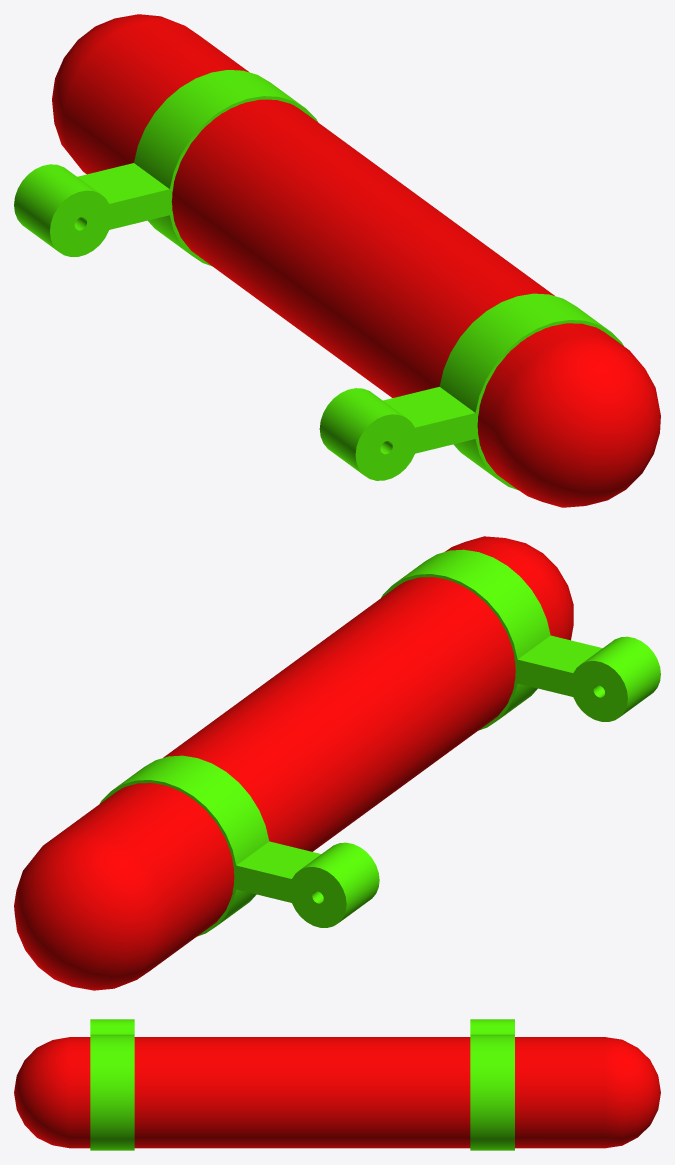
File: Aka.gltf
3 views of the same model, one above another, from view 1: azimuth 30°, elevation 25°; view 2: azimuth 150°, elevation 25°; view 3: azimuth 270°, elevation 25° (orthographic). The views are drawn at different scales.
Visible parts, largest first — view 1: AkaFloat, Hinge1, Hinge2; view 2: AkaFloat, Hinge2, Hinge1; view 3: AkaFloat, Hinge1, Hinge2.
Boxes of the visible parts, x1,y1,x2,y2 form: AkaFloat: [52, 14, 660, 507]; Hinge1: [319, 293, 623, 490]; Hinge2: [14, 70, 317, 266]; AkaFloat: [14, 536, 573, 990]; Hinge2: [99, 755, 379, 936]; Hinge1: [381, 549, 660, 730]; AkaFloat: [14, 1037, 660, 1148]; Hinge1: [90, 1019, 134, 1150]; Hinge2: [470, 1019, 514, 1150].
Size of the model in its own units: 0.2257 by 0.13 by 0.725.
